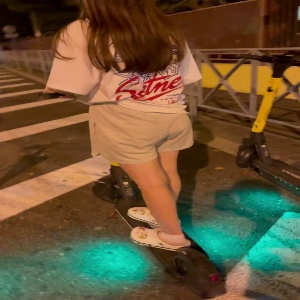human on a scooter: (36, 1, 235, 297)
